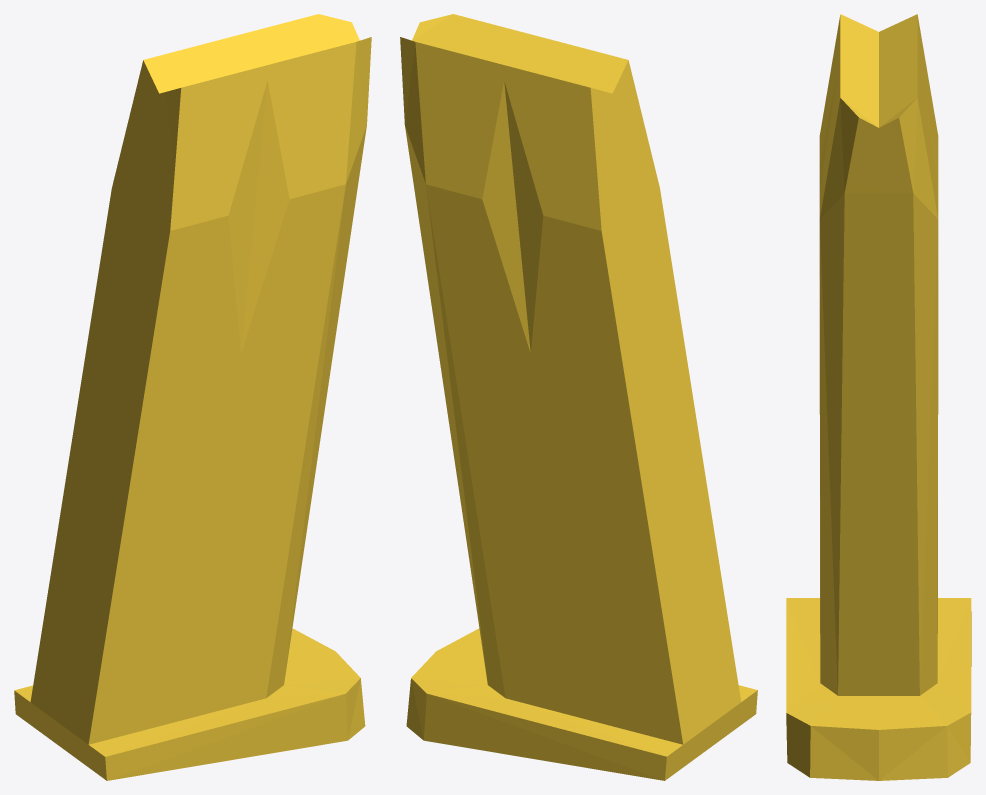
File: SM_M9_Magazine.FBX
3 views of the same model, side by side, from view 1: azimuth 30°, elevation 25°; view 2: azimuth 150°, elevation 25°; view 3: azimuth 270°, elevation 25° (orthographic).
Visible parts, largest first — view 1: SM_M9_Magazine; view 2: SM_M9_Magazine; view 3: SM_M9_Magazine.
Boxes of the visible parts, x1,y1,x2,y2 form: SM_M9_Magazine: (14,14,371,780); SM_M9_Magazine: (400,14,757,780); SM_M9_Magazine: (786,14,971,780).
Bounding box in the file's own units: 4.73 × 10.04 × 2.47.
